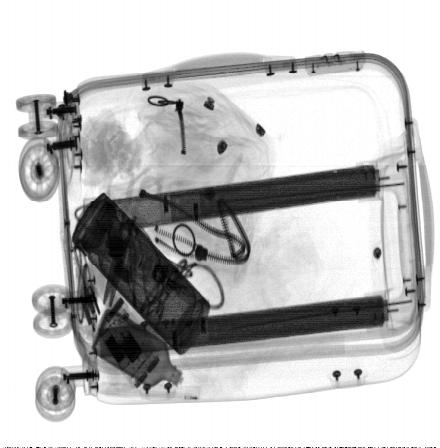Scissors: (102, 164, 164, 310)
